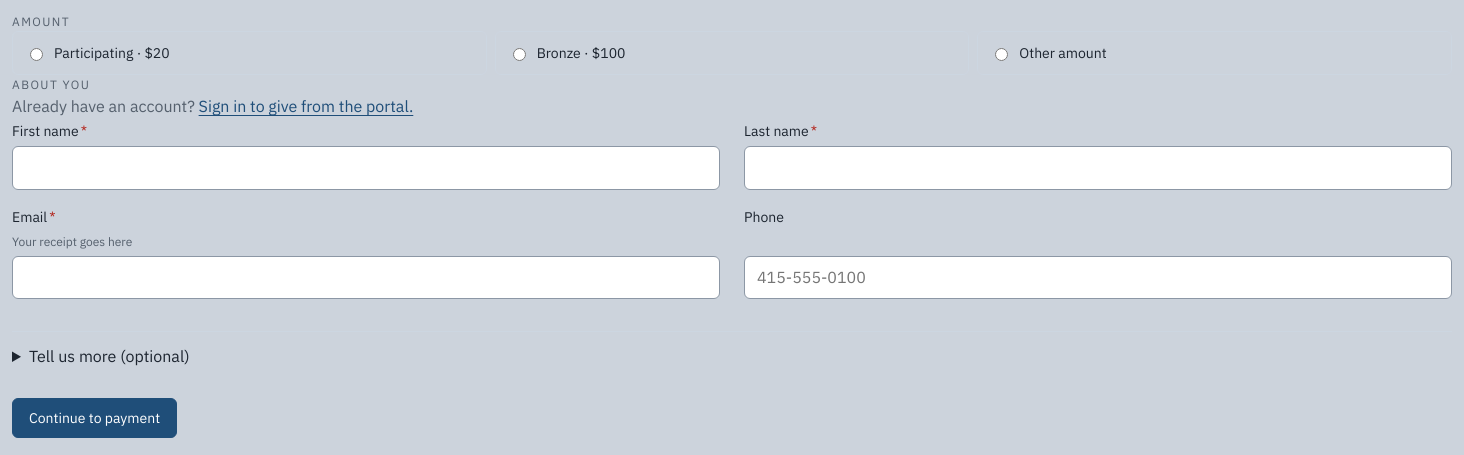
DonationForm › shows what is being given before the payment
This screenshot has width=1464, height=455.
Step 1. Click the radio button labelled "Bronze · $100" → (519, 55), box [513, 48, 526, 61]
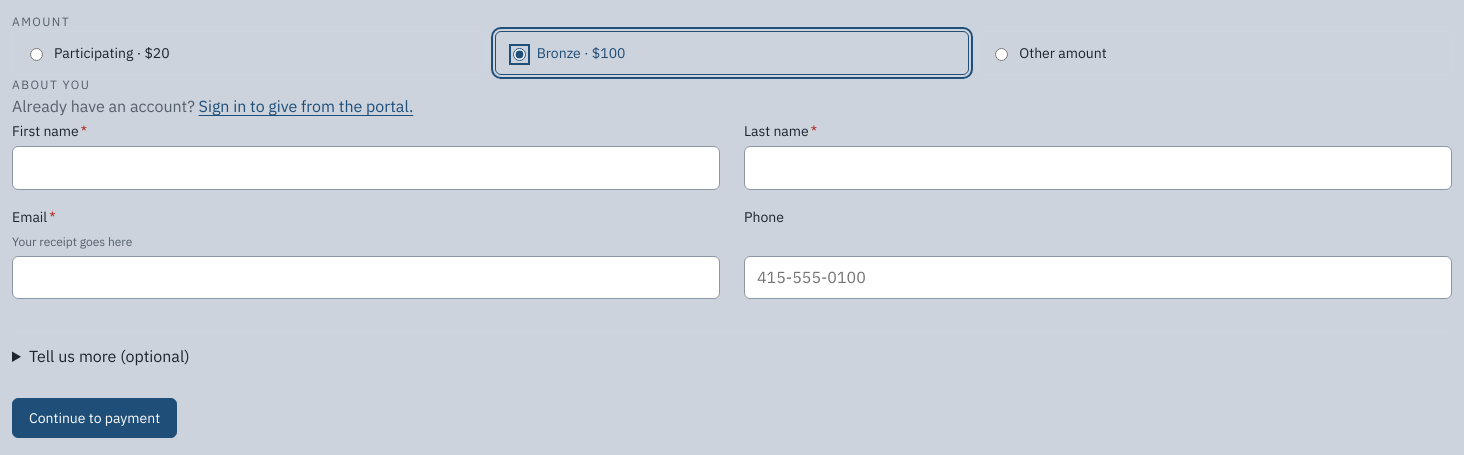
Step 2. Type "Pat" into the field labelled "First name*" → (366, 168), box [12, 146, 720, 190]
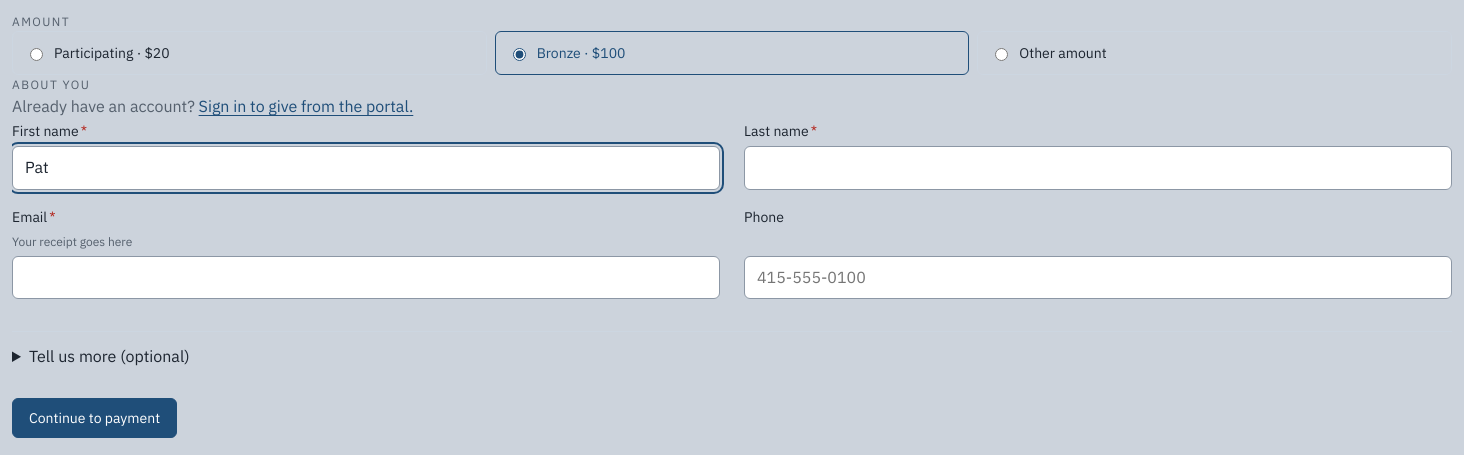
Step 3. Type "Giver" into the field labelled "Last name*" → (1098, 168), box [744, 146, 1452, 190]
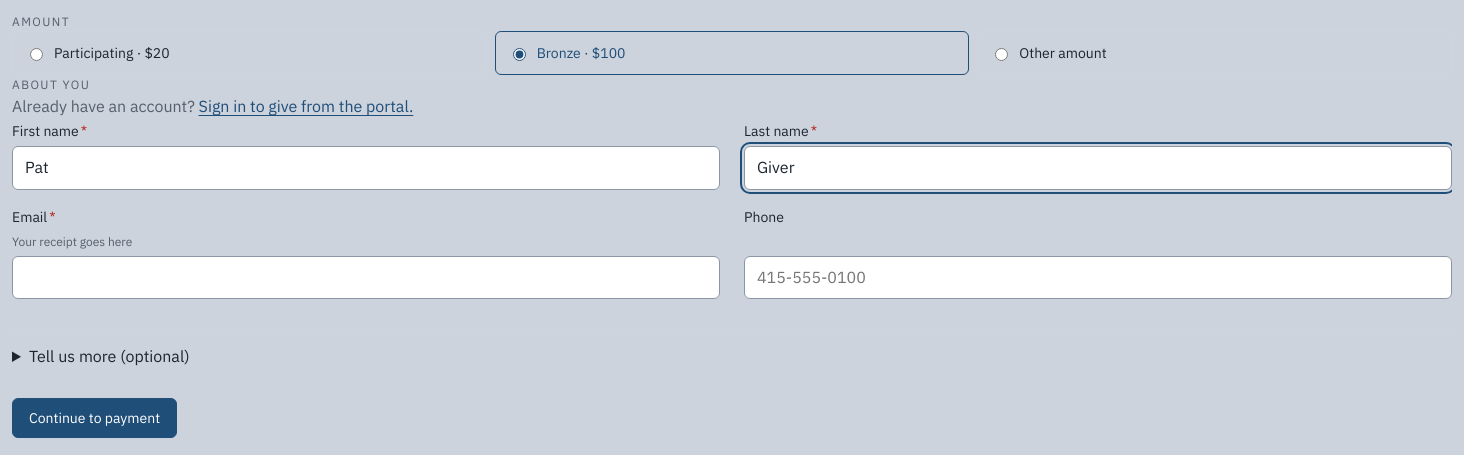
Step 4. Type "pat@example.org" into the field labelled "Email*" → (366, 277), box [12, 256, 720, 299]
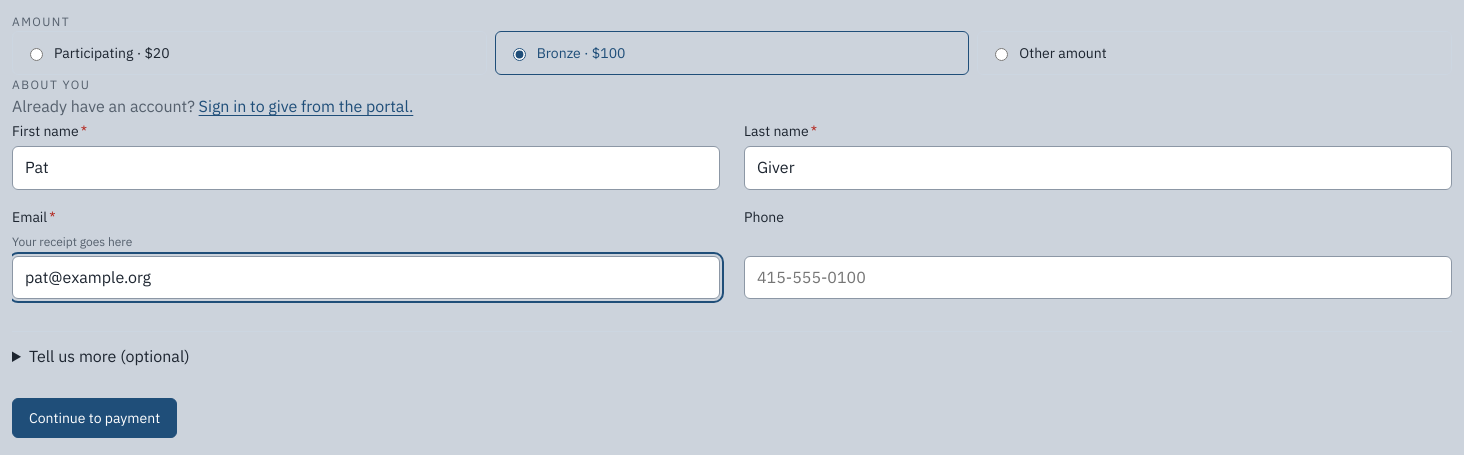
Step 5. Type "4155550100" into the field labelled "Phone" → (1098, 277), box [744, 256, 1452, 299]
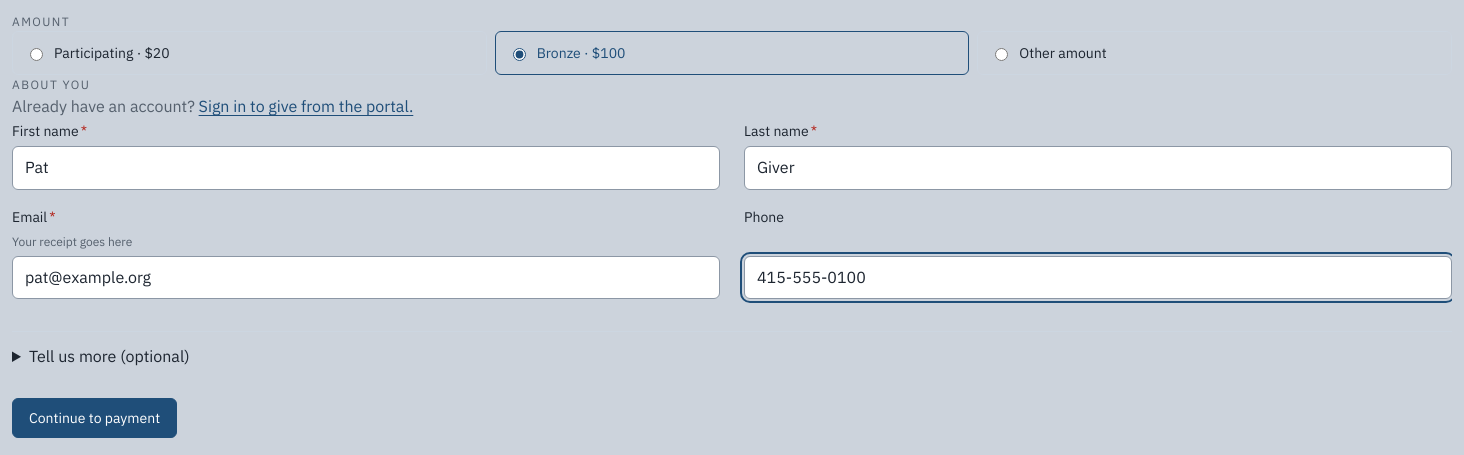
Step 6. Click the button "Continue to payment" → (95, 418), box [12, 398, 177, 438]
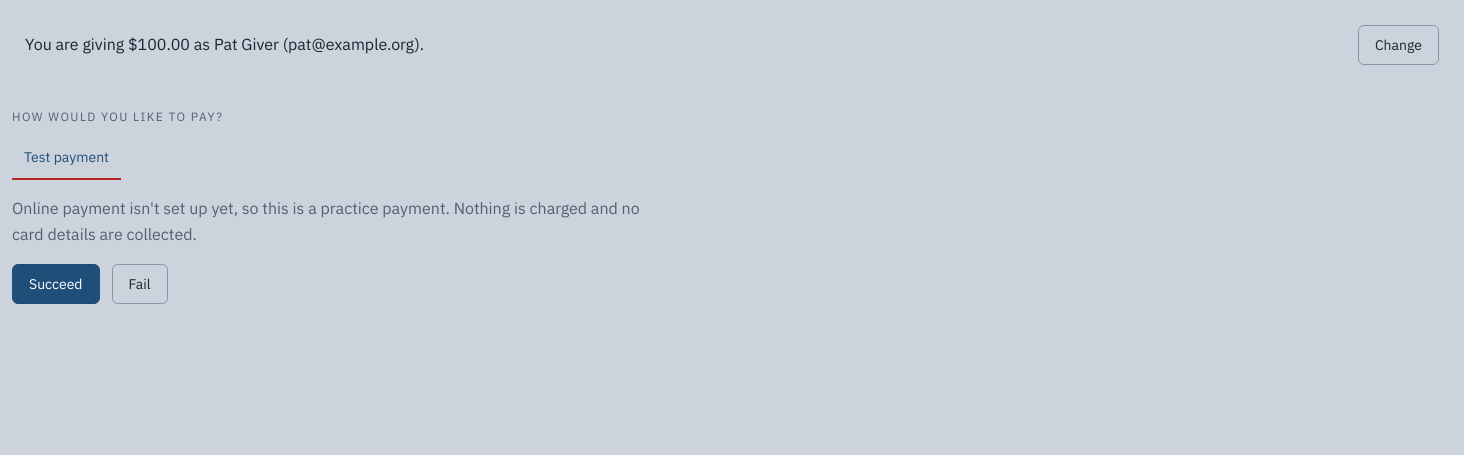
Expected: the text "You are giving $100.00 as Pat Giver (pat@example.org)." is shown, [25, 32, 424, 58]
